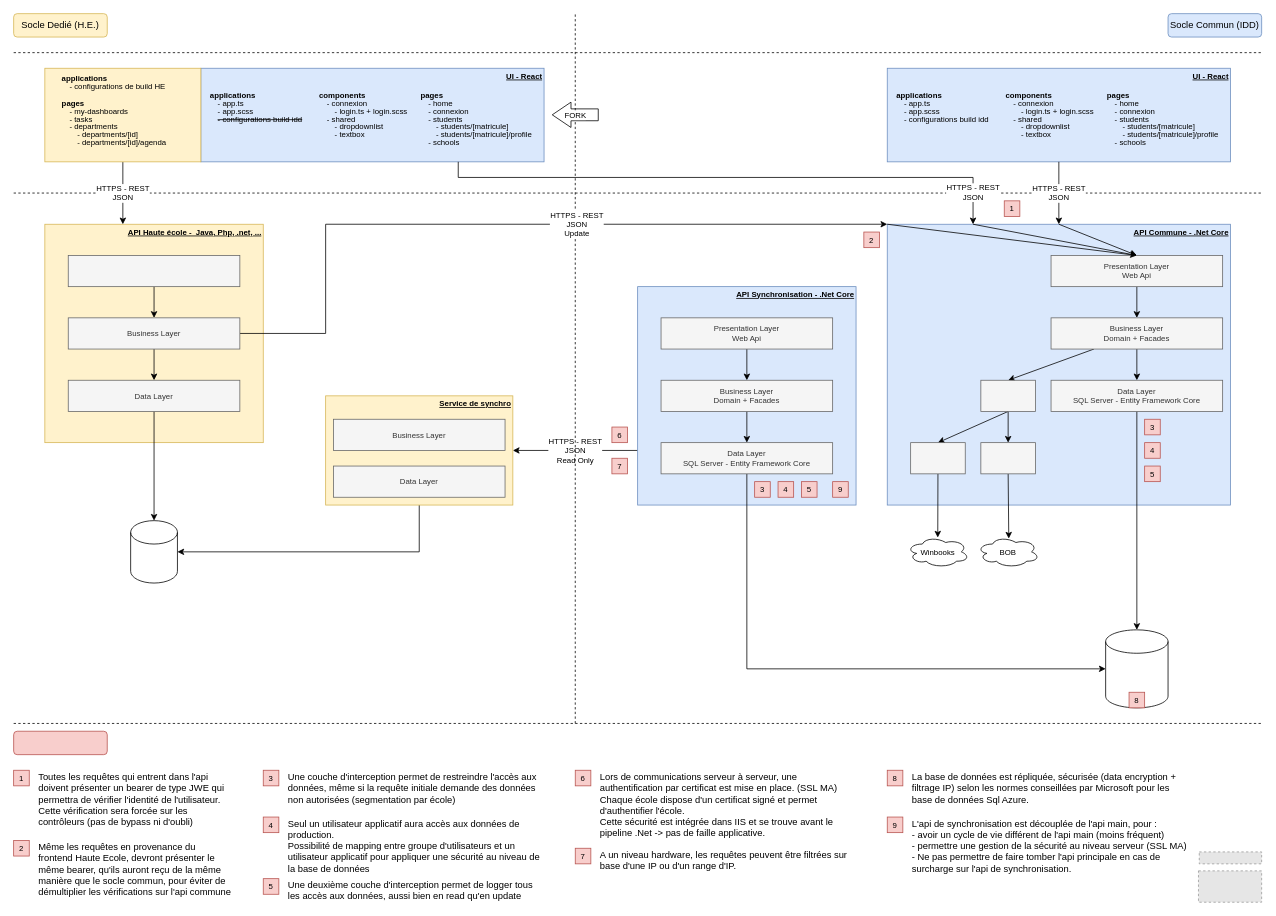
This 1276x916 diagram has some shape labels left out. Grey dashed boxes stand in for pictures. Each missing label, with the box of its shape:
Accounting Interface (IoC): (980, 379, 1035, 411)
BOB Provider: (980, 442, 1035, 474)
Database HE: (130, 520, 177, 583)
Master Database: (1105, 629, 1168, 708)
Presentation Layer: (67, 255, 240, 287)
Sécurité: (13, 730, 107, 755)
Winbooks Provider: (910, 442, 965, 474)
